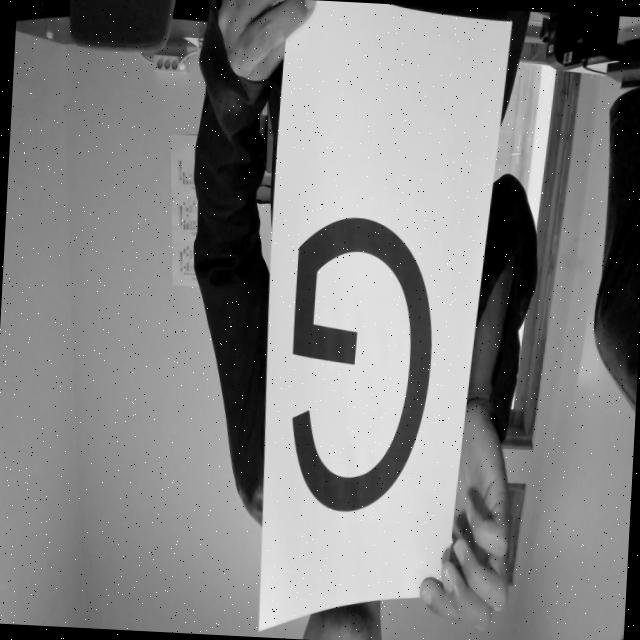g: (269, 189, 452, 526)
